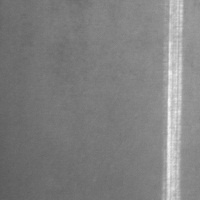scratches: (160, 0, 188, 199)
